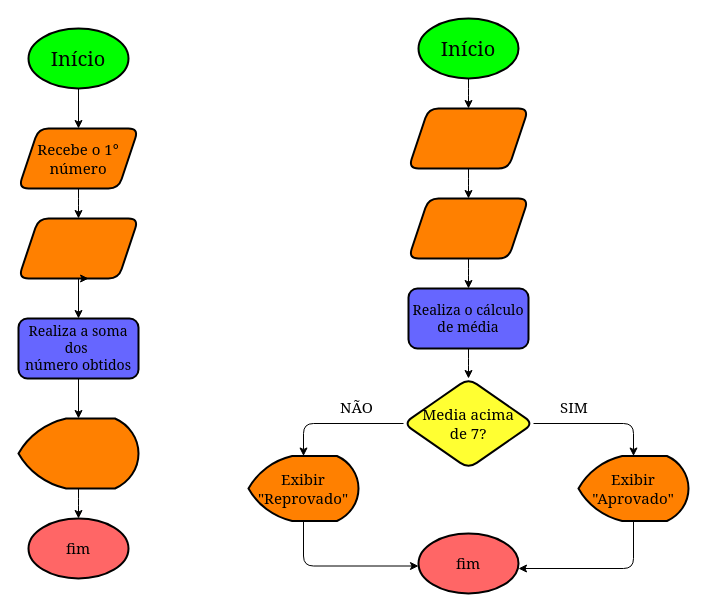
Image size: 725x611. Some labels were removed from this diagram. The centre of each missing label's shape, as x and y in pixels:
"Exibe o resultado da soma" belongs at point (78, 453).
"Obter a 1° nota" belongs at point (468, 138).
"Obter a 2° nota" belongs at point (468, 228).
"Recebe o 2° número" belongs at point (78, 248).
